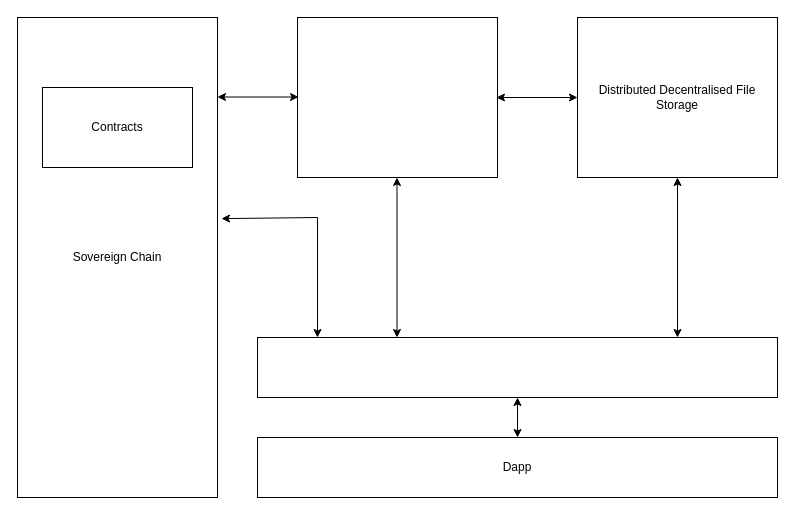
This 795x515 diagram has some shape labels left out. The box of each missing label's shape, as (x1, y1, x2, y2) in pixels:
AI Model: (296, 16, 498, 178)
API Gateway: (256, 336, 778, 398)
